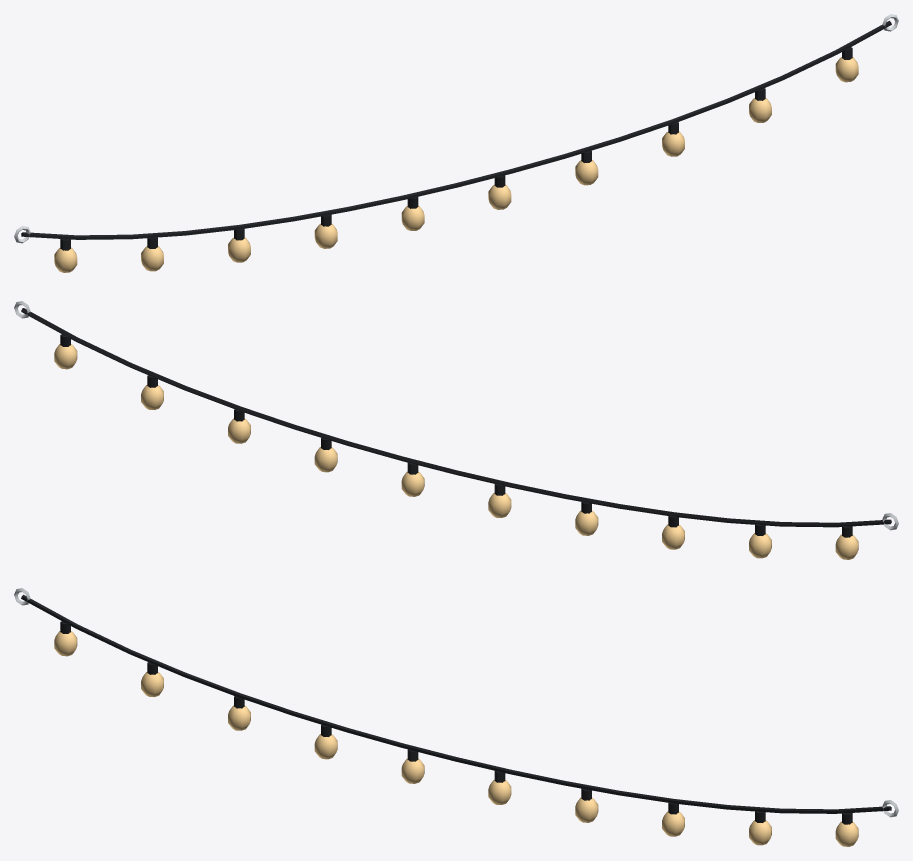
Rendered from Lobby_StringLights.fbx.
The picture shows the model from 3 angles, top to bottom: view 1: azimuth 30°, elevation 25°; view 2: azimuth 150°, elevation 25°; view 3: azimuth 330°, elevation 25°; orthographic projection.
Parts seen in each view (by area): view 1: Cable, Bulbs; view 2: Cable, Bulbs; view 3: Cable, Bulbs.
Part boxes in pixels (left/top/right/bottom): Cable: left=21, top=20, right=891, bottom=250; Bulbs: left=54, top=57, right=858, bottom=272; Cable: left=21, top=308, right=891, bottom=537; Bulbs: left=54, top=344, right=858, bottom=559; Cable: left=21, top=594, right=891, bottom=824; Bulbs: left=54, top=631, right=858, bottom=846.
Bounding box in the file's own units: 1631 × 176 × 38.04.
